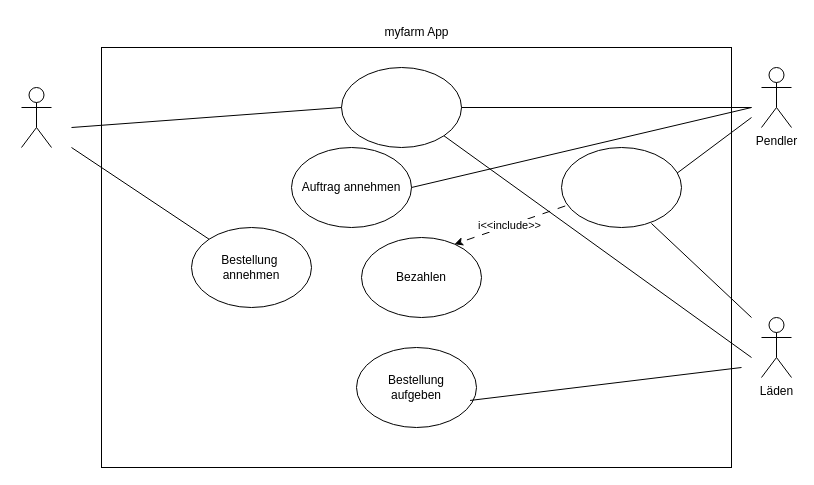
The diagram is 814 pixels wide and 485 high, and some of its shapes have lost their labels. The shapes that lost their labels are listed below. From the top down, each one's centre as x and y in pixels, then its label:
[36,117]: Bauern
[401,107]: Registrieren
[621,187]: LIeferung annehmen
